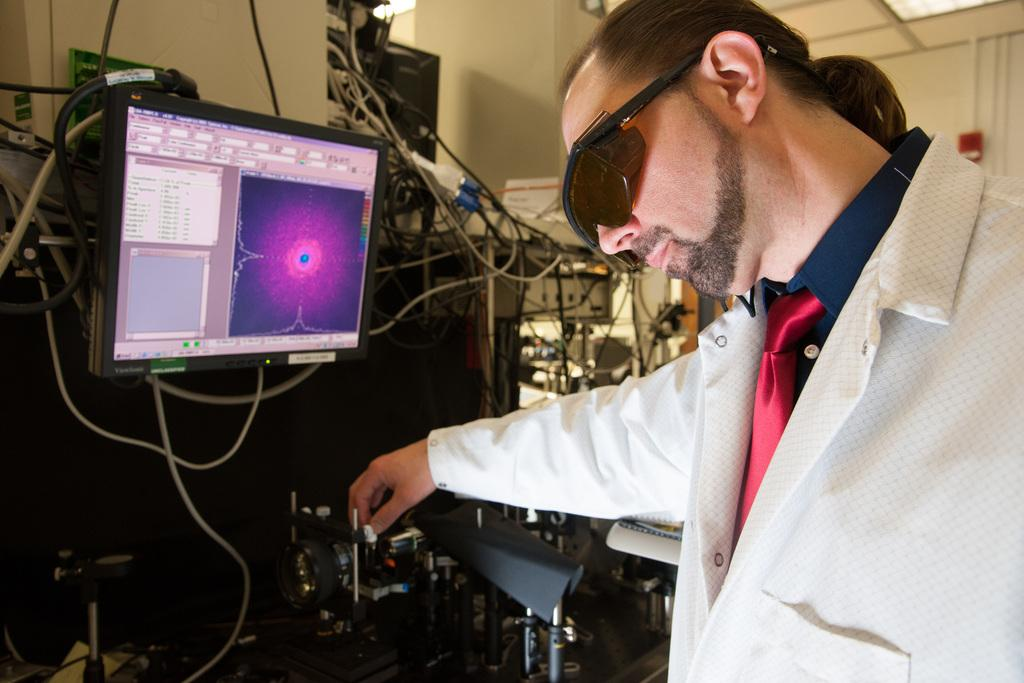Computer-monitor: (86, 80, 391, 380)
